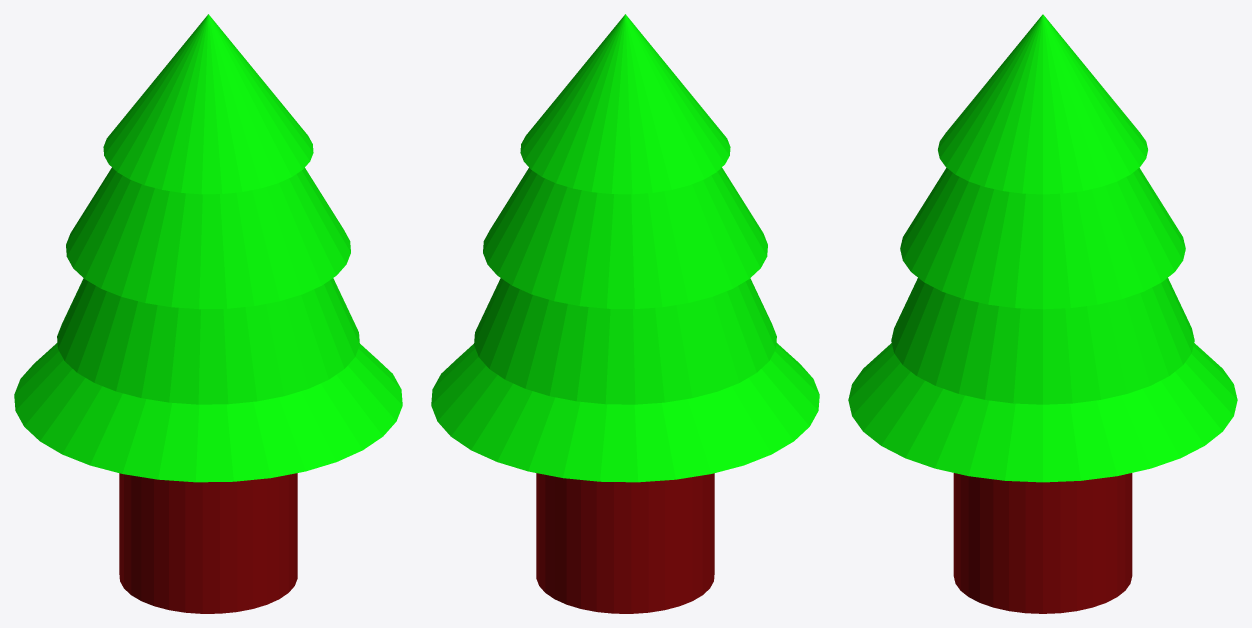
Rendered from PineTree.fbx.
3 views of the same model, side by side, from view 1: azimuth 30°, elevation 25°; view 2: azimuth 150°, elevation 25°; view 3: azimuth 270°, elevation 25° (orthographic).
Visible parts, largest first — view 1: Tree; view 2: Tree; view 3: Tree.
Part boxes in pixels (<box>): Tree: <box>14,14,402,613</box>; Tree: <box>431,14,819,613</box>; Tree: <box>848,14,1237,613</box>.
Size of the model in its own units: 436 by 695 by 436.
